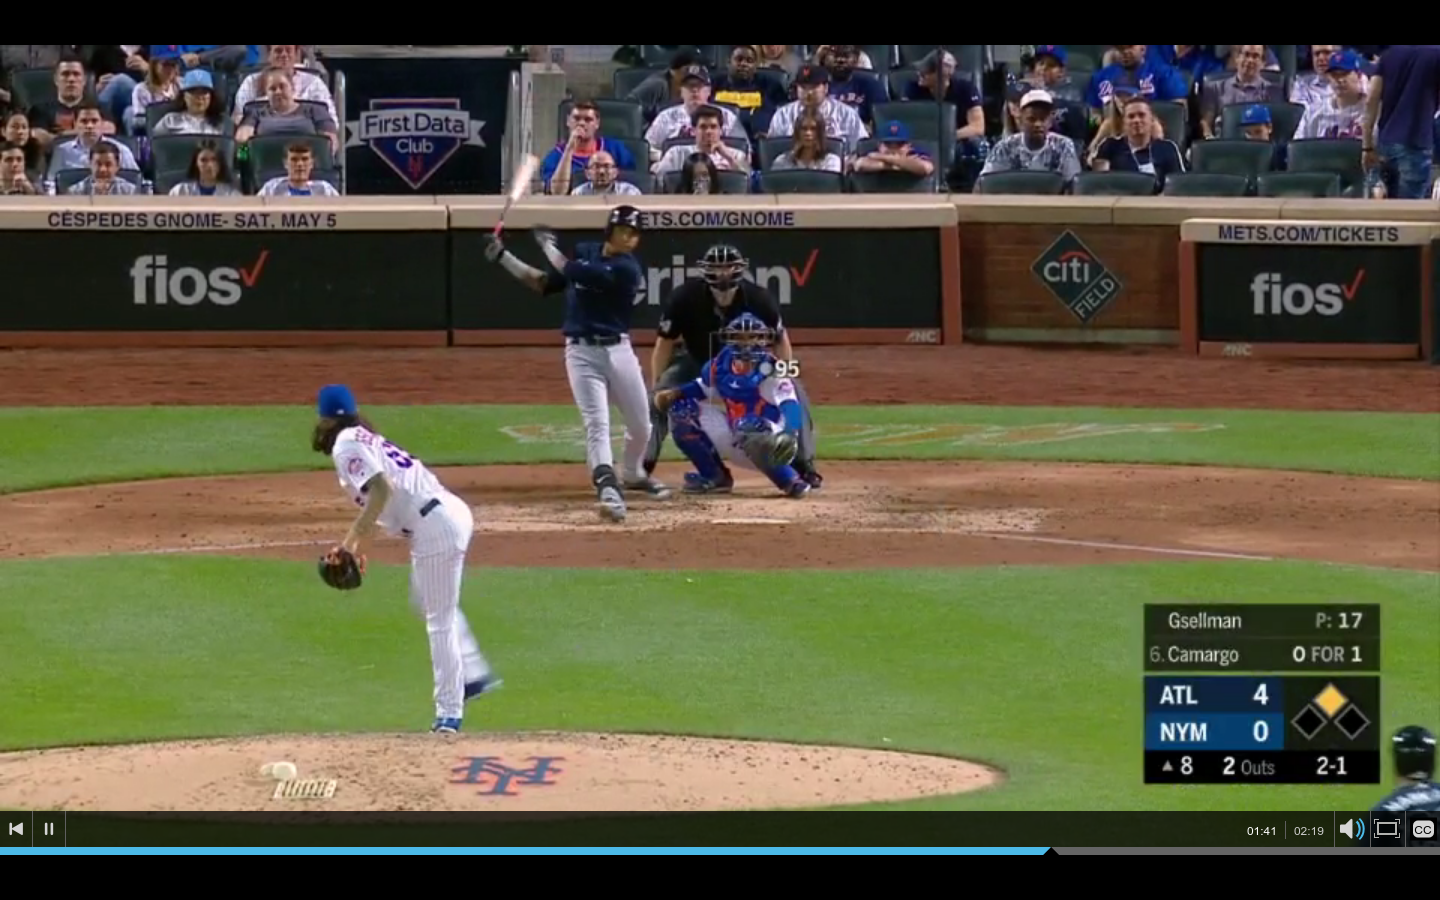baseball: (487, 151, 541, 245)
baseball player: (308, 382, 508, 742), (487, 208, 673, 519), (655, 312, 808, 508)
referee: (642, 242, 825, 503)
